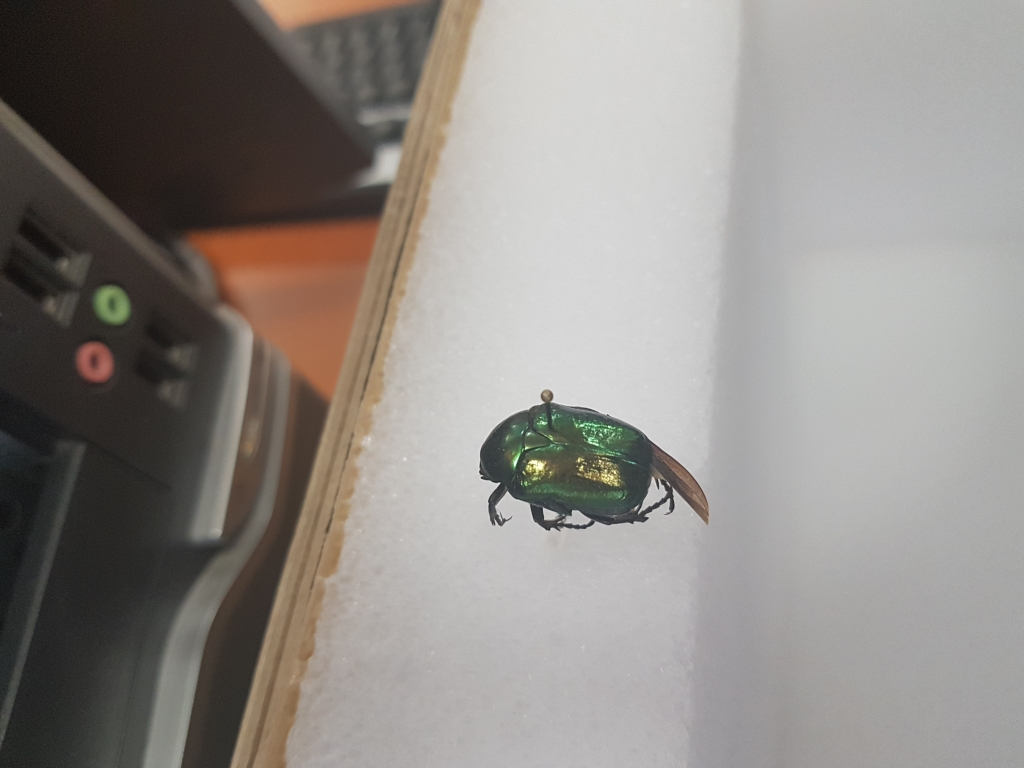Protaetia_angustata_angustata: (469, 397, 677, 538)
